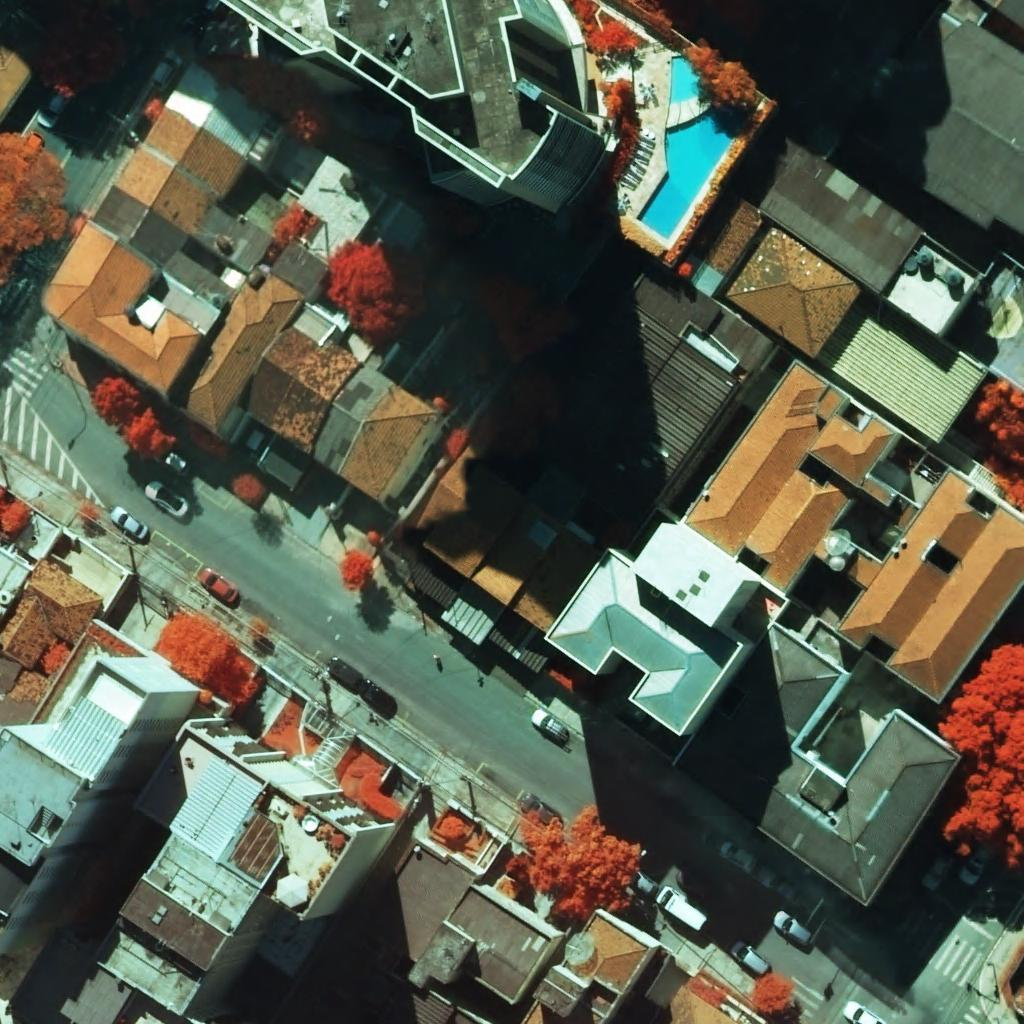pool: (637, 56, 737, 240)
